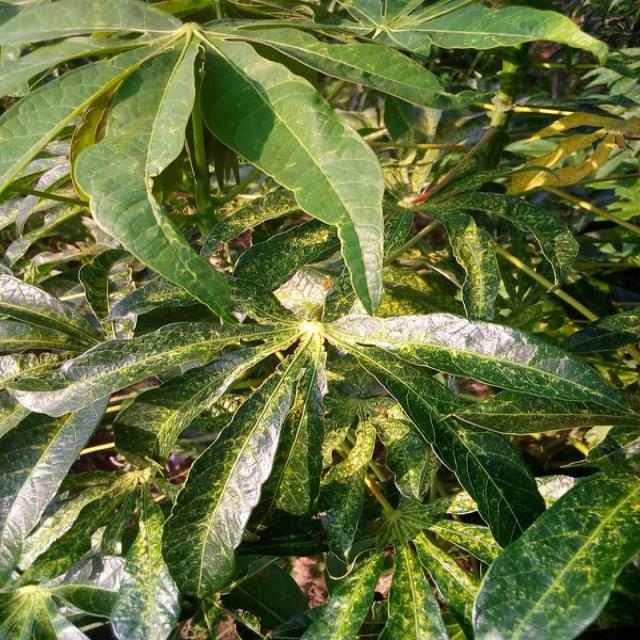cassava leaf: (2, 1, 638, 638), (200, 27, 386, 316)
